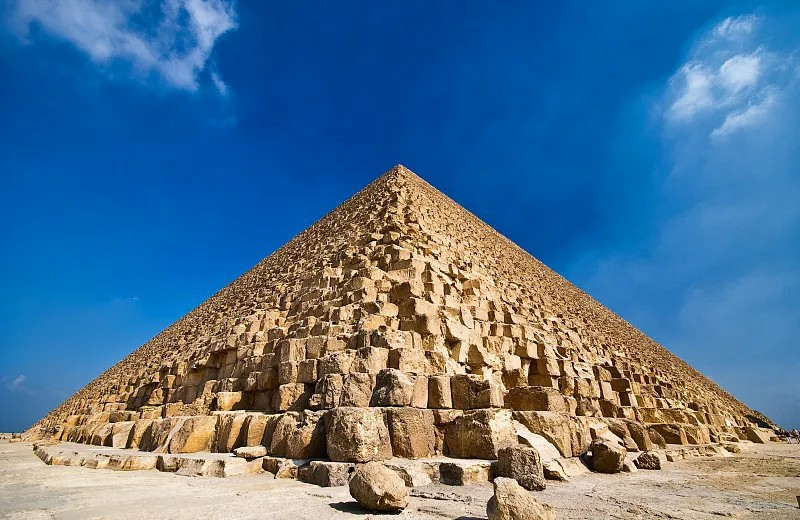Pyramid: (24, 165, 780, 440)
